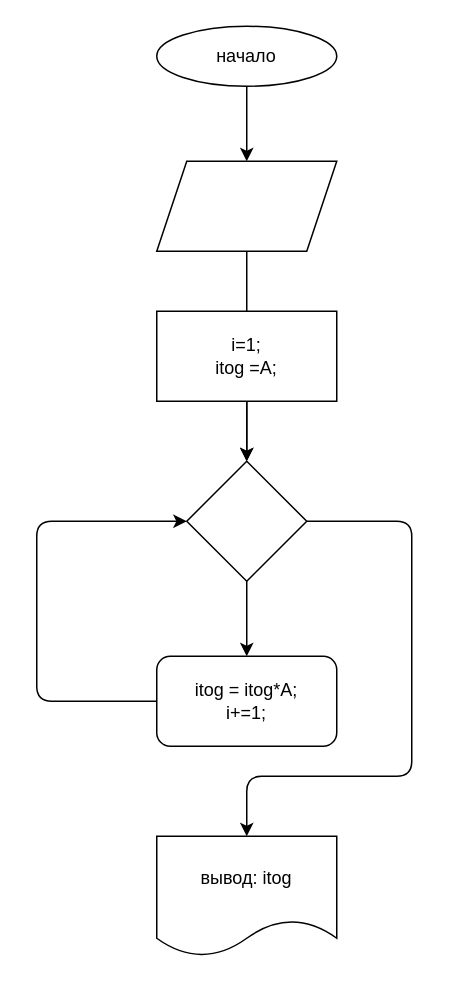
The diagram is 450 pixels wide and 983 high, and some of its shapes have lost their labels. Here are the shapes that lost their labels. From the top down, the box of each, then its label:
(155, 160, 337, 251): ввод: A, B;
(185, 460, 307, 581): i<B
